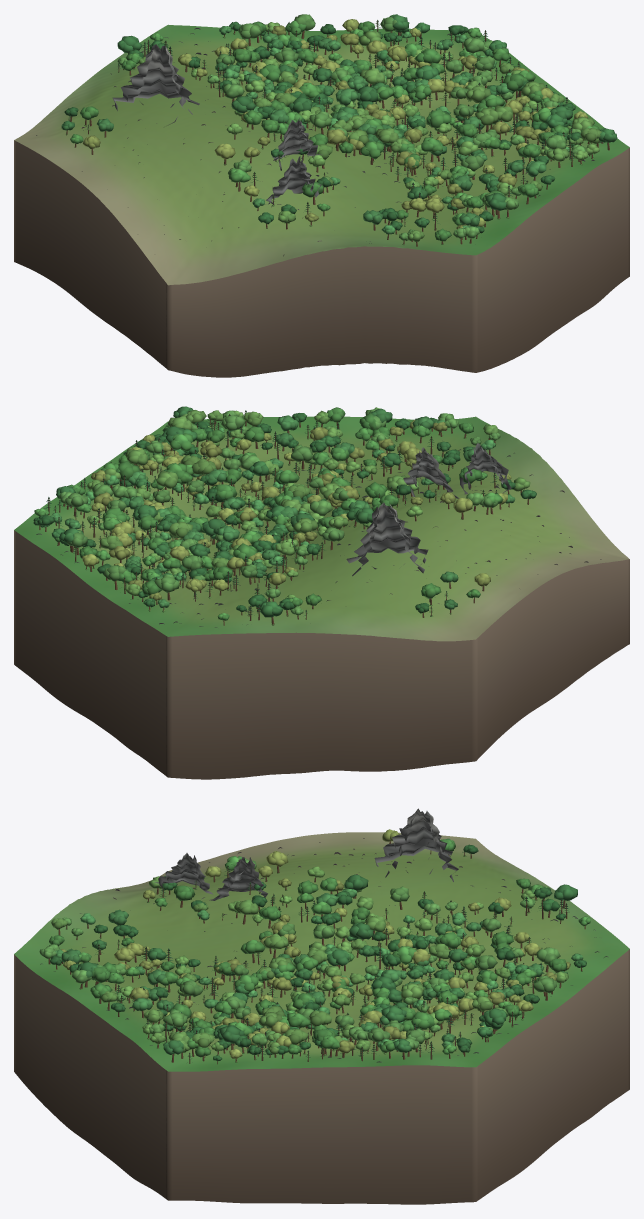
The picture shows the model from 3 angles, top to bottom: view 1: azimuth 30°, elevation 25°; view 2: azimuth 150°, elevation 25°; view 3: azimuth 270°, elevation 25°; orthographic projection.
Parts seen in each view (by area): view 1: hex_side_cut, terrain, broadleaf_canopy, rock_escarpments, trunks, conifer_canopy; view 2: hex_side_cut, terrain, broadleaf_canopy, rock_escarpments, trunks, conifer_canopy; view 3: hex_side_cut, terrain, broadleaf_canopy, trunks, rock_escarpments, conifer_canopy.
Boxes of the visible parts, left/top/right/bottom form: hex_side_cut: left=14, top=140, right=629, bottom=377; terrain: left=14, top=24, right=629, bottom=285; broadleaf_canopy: left=61, top=14, right=617, bottom=241; rock_escarpments: left=112, top=44, right=324, bottom=204; trunks: left=66, top=21, right=609, bottom=246; conifer_canopy: left=68, top=20, right=589, bottom=224; hex_side_cut: left=14, top=530, right=629, bottom=779; terrain: left=14, top=416, right=629, bottom=641; broadleaf_canopy: left=33, top=406, right=536, bottom=620; rock_escarpments: left=346, top=443, right=511, bottom=576; trunks: left=39, top=411, right=528, bottom=625; conifer_canopy: left=44, top=410, right=497, bottom=615; hex_side_cut: left=14, top=949, right=629, bottom=1204; terrain: left=14, top=832, right=629, bottom=1071; broadleaf_canopy: left=39, top=829, right=590, bottom=1060; trunks: left=48, top=841, right=585, bottom=1064; rock_escarpments: left=154, top=808, right=458, bottom=900; conifer_canopy: left=95, top=847, right=569, bottom=1059.
Size of the model in its own units: 4330 by 2034 by 5000.
